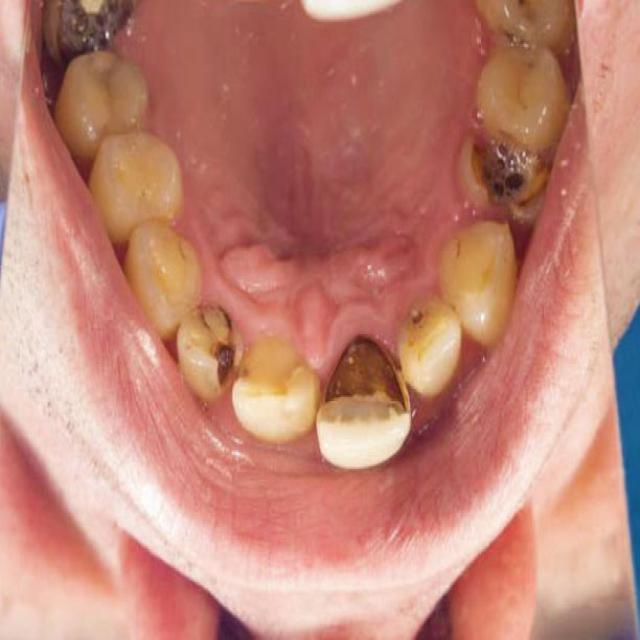caries: (316, 330, 402, 441), (460, 119, 548, 227), (41, 0, 137, 72), (182, 295, 242, 394), (404, 288, 436, 346)
